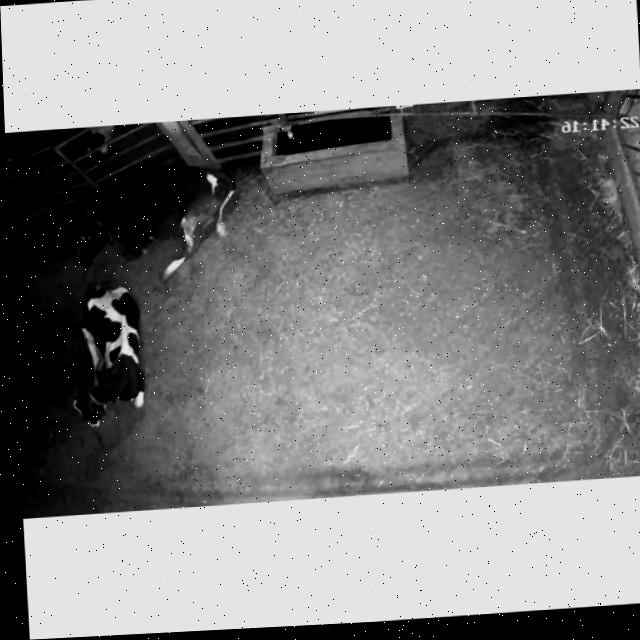lay: (49, 153, 253, 288), (52, 274, 162, 440)
